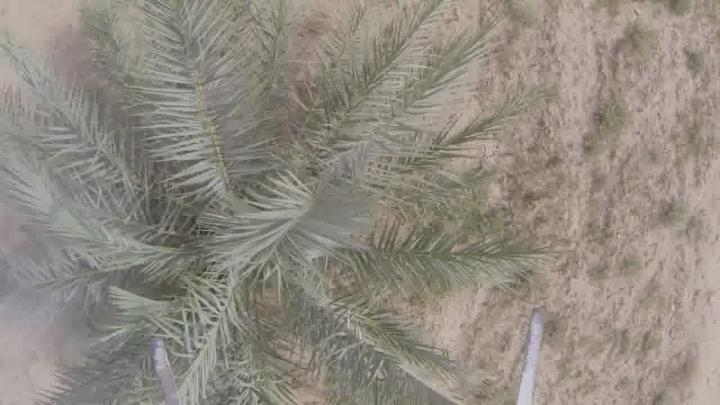Date-Palm-Crown: (42, 39, 434, 405)
